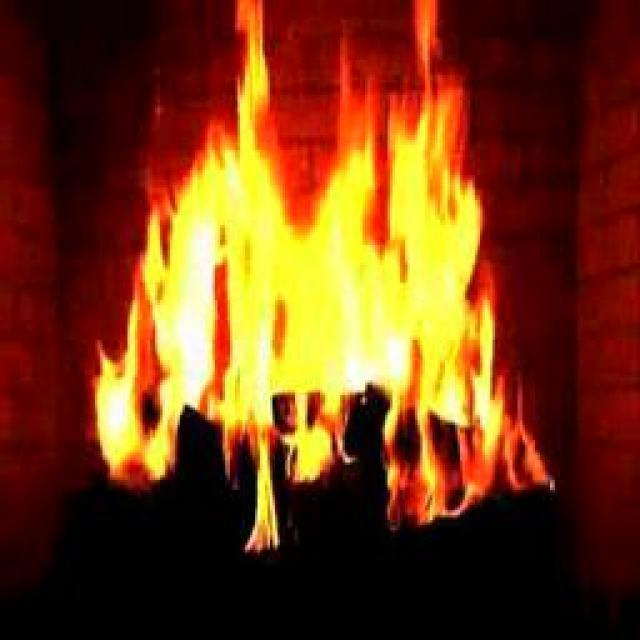Fire: (113, 75, 471, 471)
